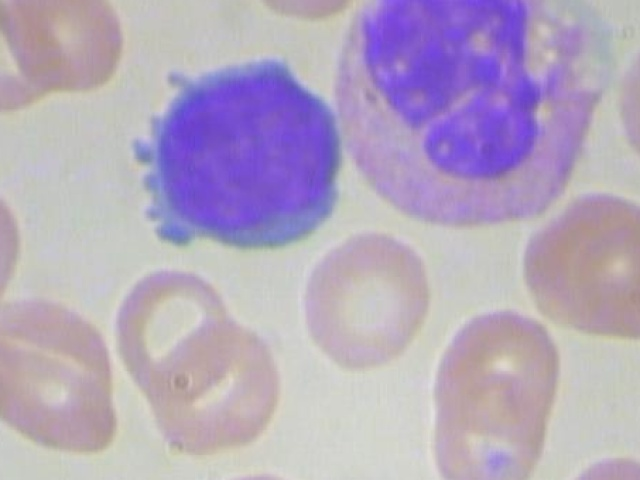RBC: (291, 225, 441, 379), (106, 243, 251, 402), (420, 302, 568, 430), (555, 187, 640, 347), (0, 0, 128, 102), (606, 28, 640, 187), (0, 172, 33, 324), (541, 436, 640, 480), (226, 0, 375, 27), (175, 468, 331, 480)
WBC: (323, 0, 632, 245), (131, 49, 351, 263)
